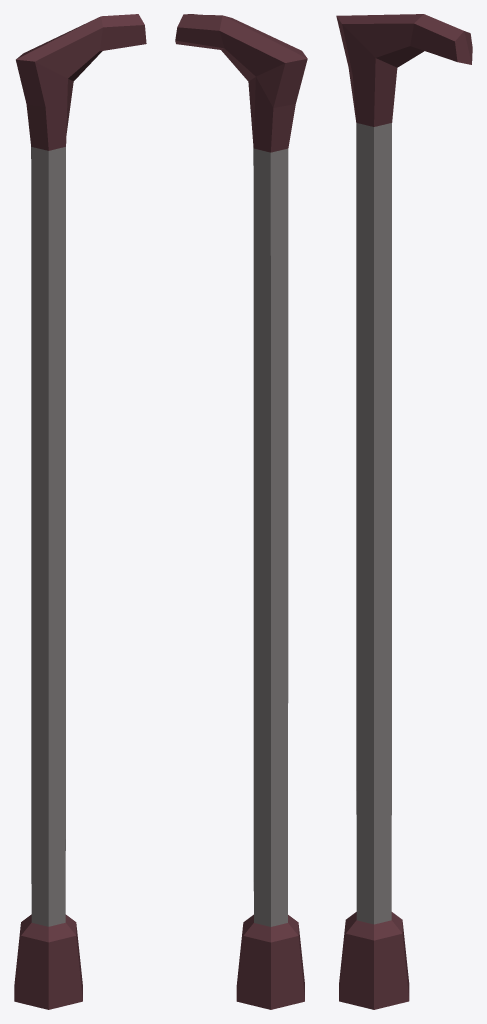
The model's file is cane.fbx.
3 views of the same model, side by side, from view 1: azimuth 30°, elevation 25°; view 2: azimuth 150°, elevation 25°; view 3: azimuth 330°, elevation 25° (orthographic). The views are drawn at different scales.
Visible parts, largest first — view 1: cane; view 2: cane; view 3: cane.
Part boxes in pixels (x1,y1,x2,y2): cane: [14, 14, 146, 1009]; cane: [175, 14, 307, 1009]; cane: [336, 14, 472, 1009].
Size of the model in its own units: 0.1436 by 1.01 by 0.065.
